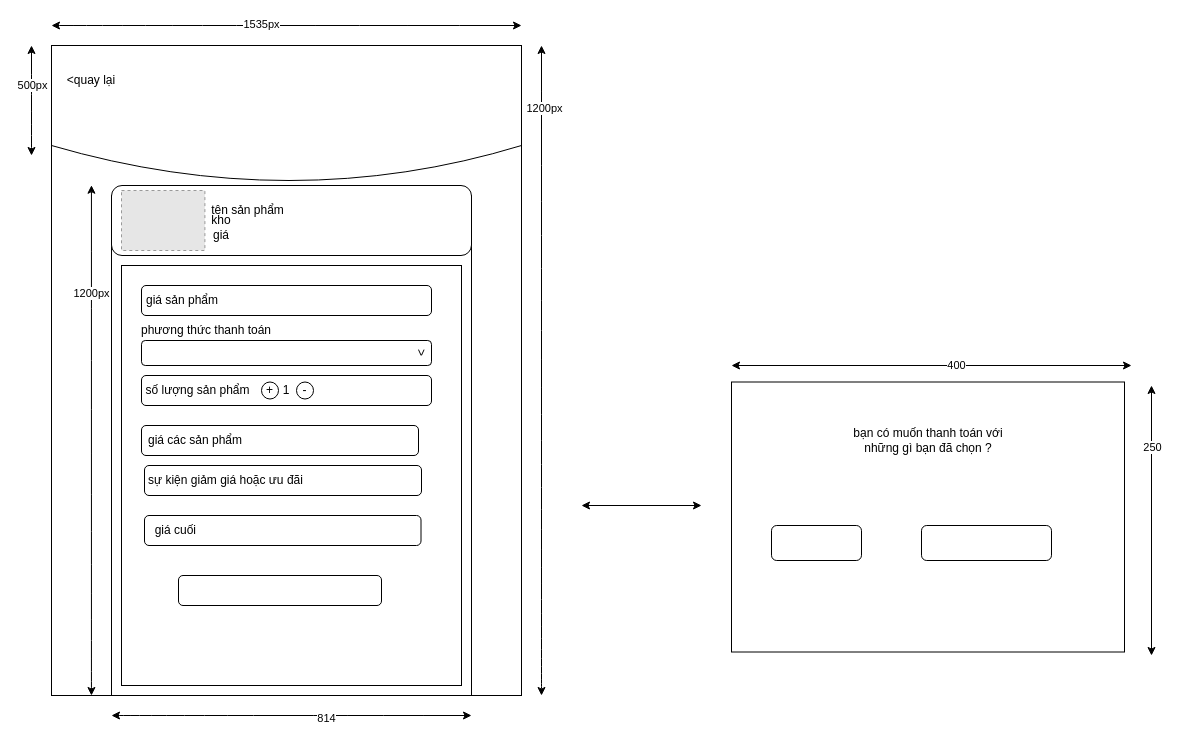
This 1178x741 diagram has some shape labels left out. Grey dashed boxes stand in for pictures. The shapes that lost their labels are listed below. From the top down, each one's centre as x and y in pixels, then its label:
At (x=816, y=542): "có".
At (x=986, y=542): "có lẽ tôi cần xem lại".
At (x=280, y=590): "chốt đơn".
